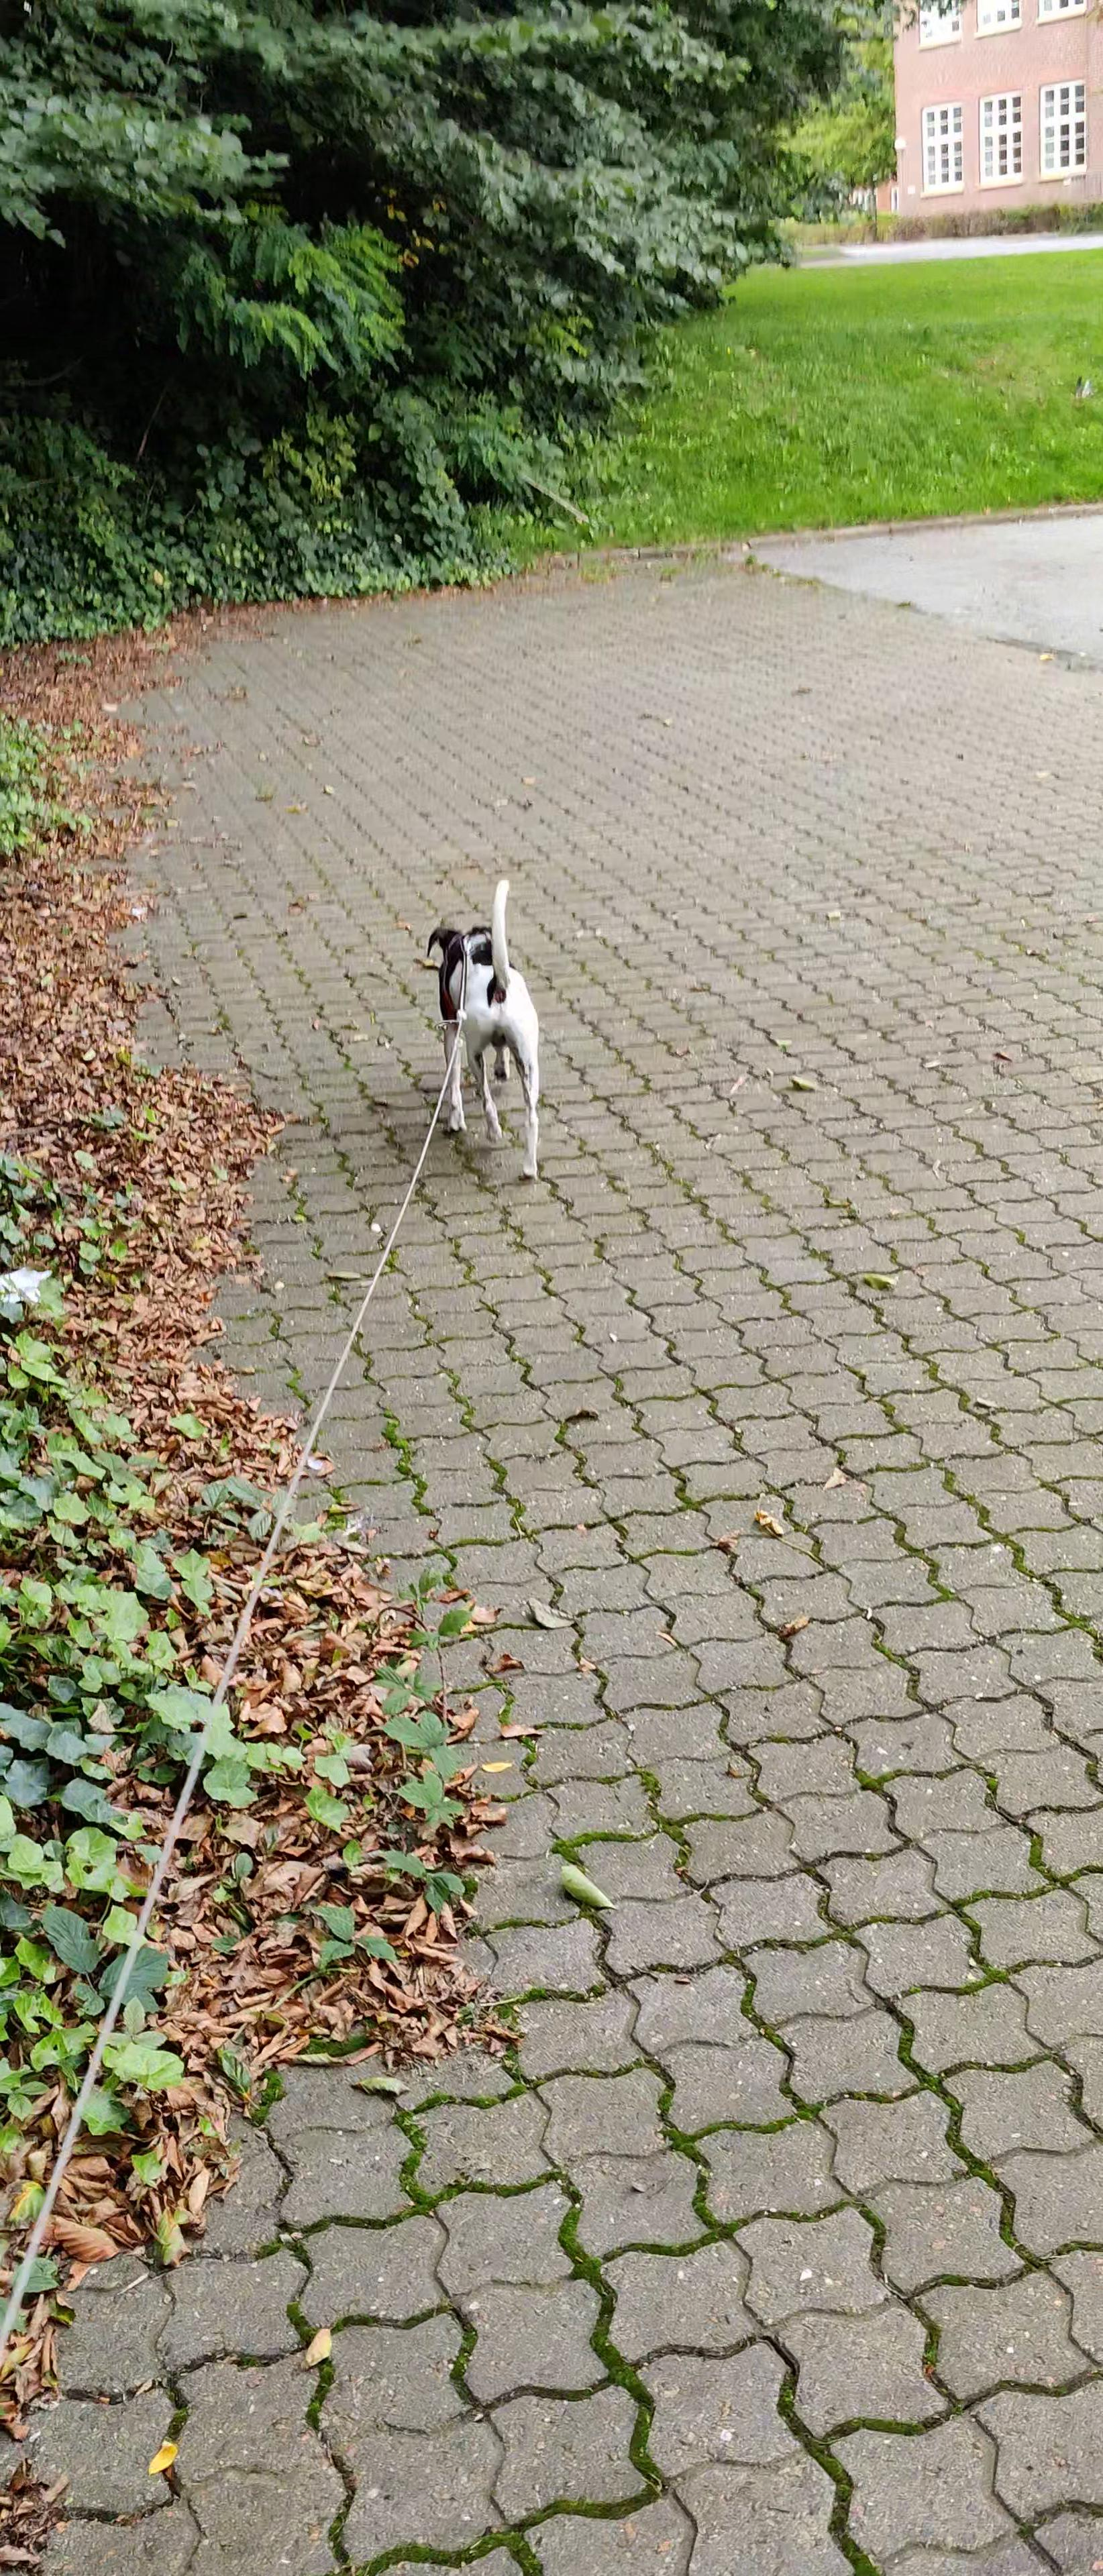Dog: (398, 854, 564, 1193)
